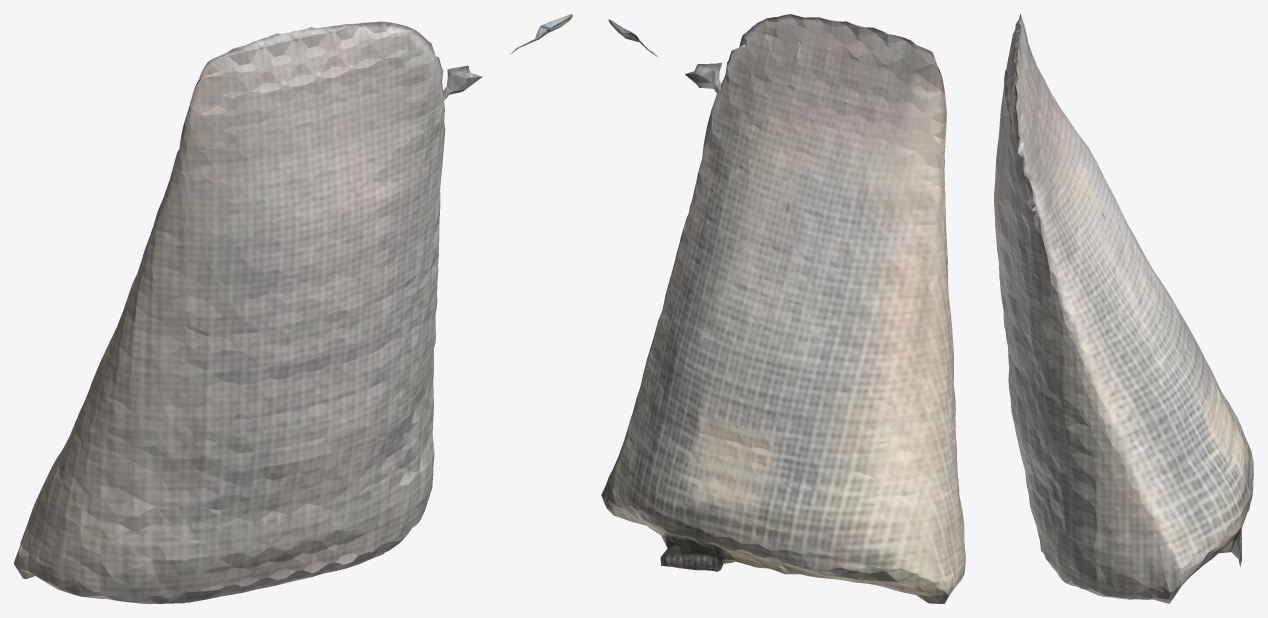
The model's file is pencil_case_v2.glb.
3 renders of one model, left to right at view 1: azimuth 30°, elevation 25°; view 2: azimuth 150°, elevation 25°; view 3: azimuth 270°, elevation 25°, orthographic. The views are drawn at different scales.
Parts seen in each view (by area): view 1: 93ebb8d8-5730-474a-8724-f896dc70ddb2; view 2: 93ebb8d8-5730-474a-8724-f896dc70ddb2; view 3: 93ebb8d8-5730-474a-8724-f896dc70ddb2.
Boxes of the visible parts, <box> form: 93ebb8d8-5730-474a-8724-f896dc70ddb2: <box>14,14,572,603</box>; 93ebb8d8-5730-474a-8724-f896dc70ddb2: <box>601,14,965,603</box>; 93ebb8d8-5730-474a-8724-f896dc70ddb2: <box>994,14,1253,603</box>.
Bounding box in the file's own units: 0.4352 × 0.5 × 0.238.
Materials: 1 (1 with a texture image).
